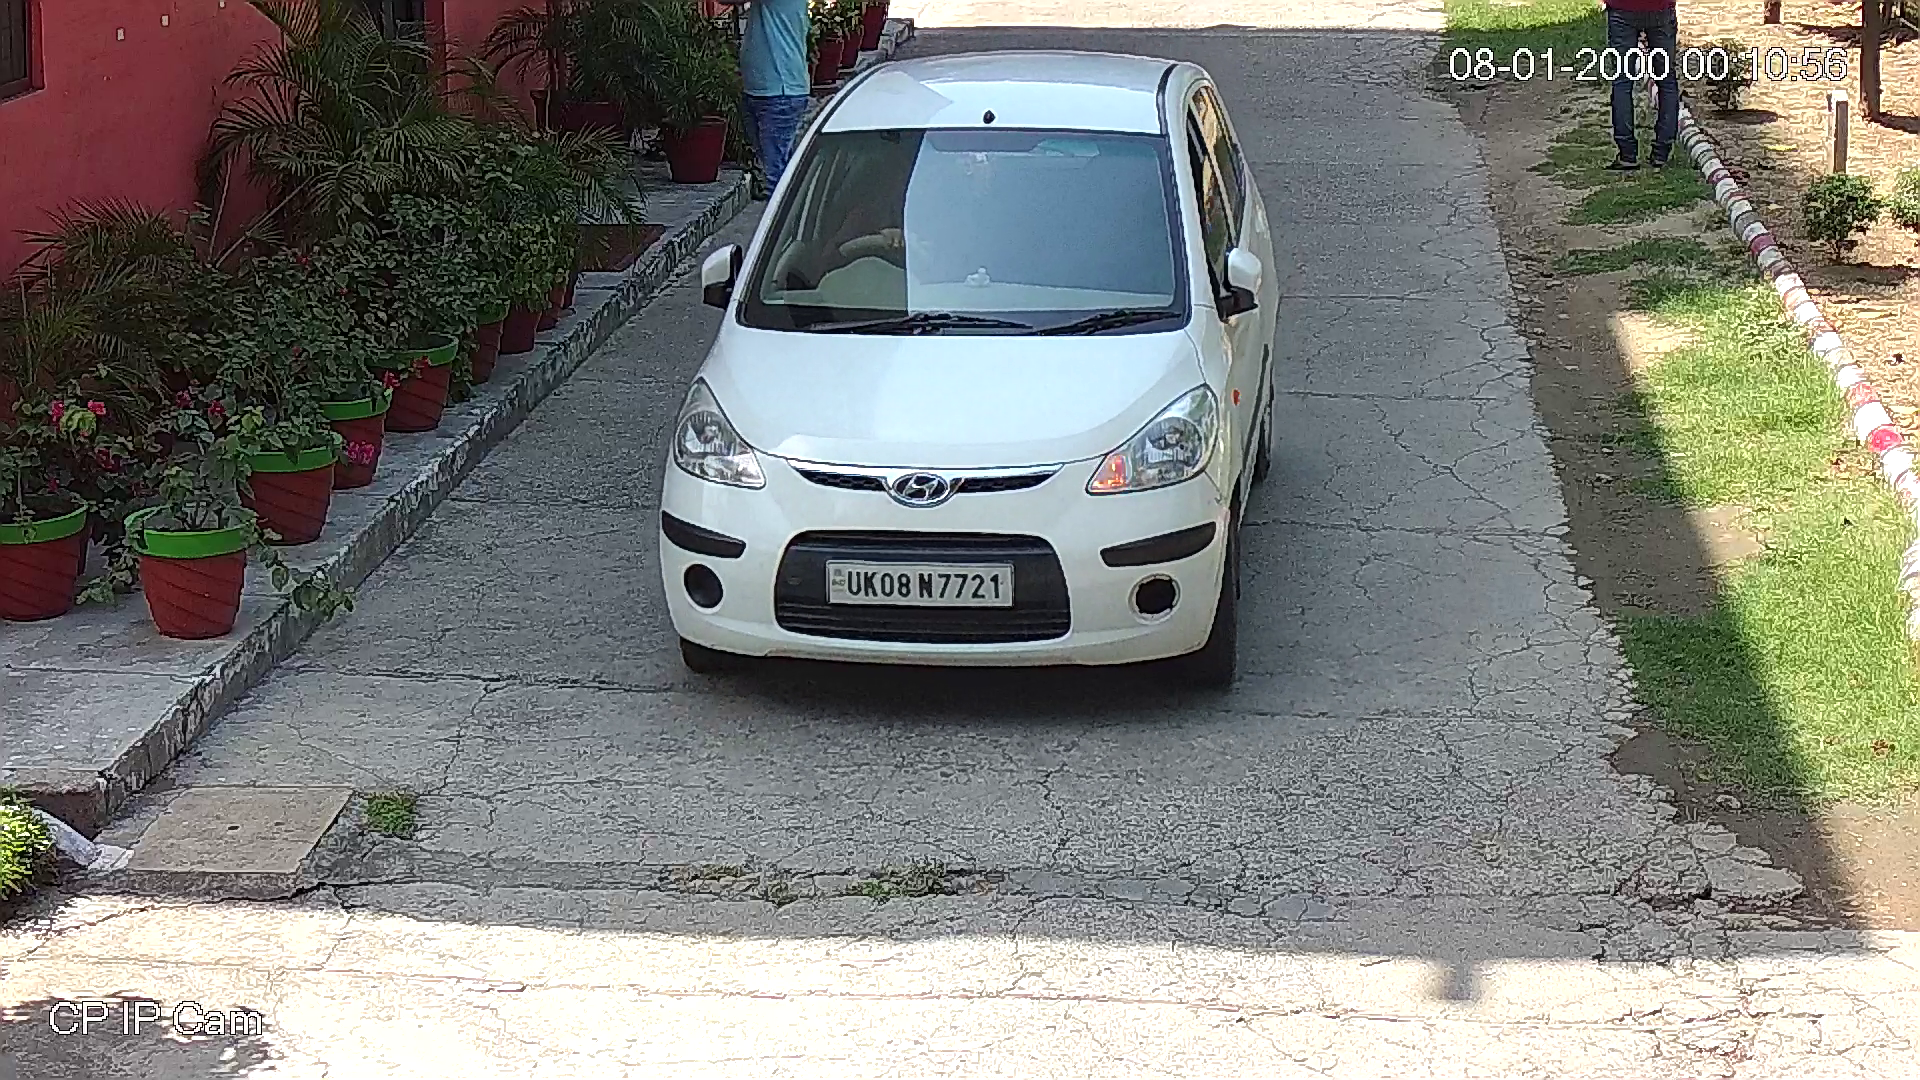plate: (828, 563, 1011, 604)
